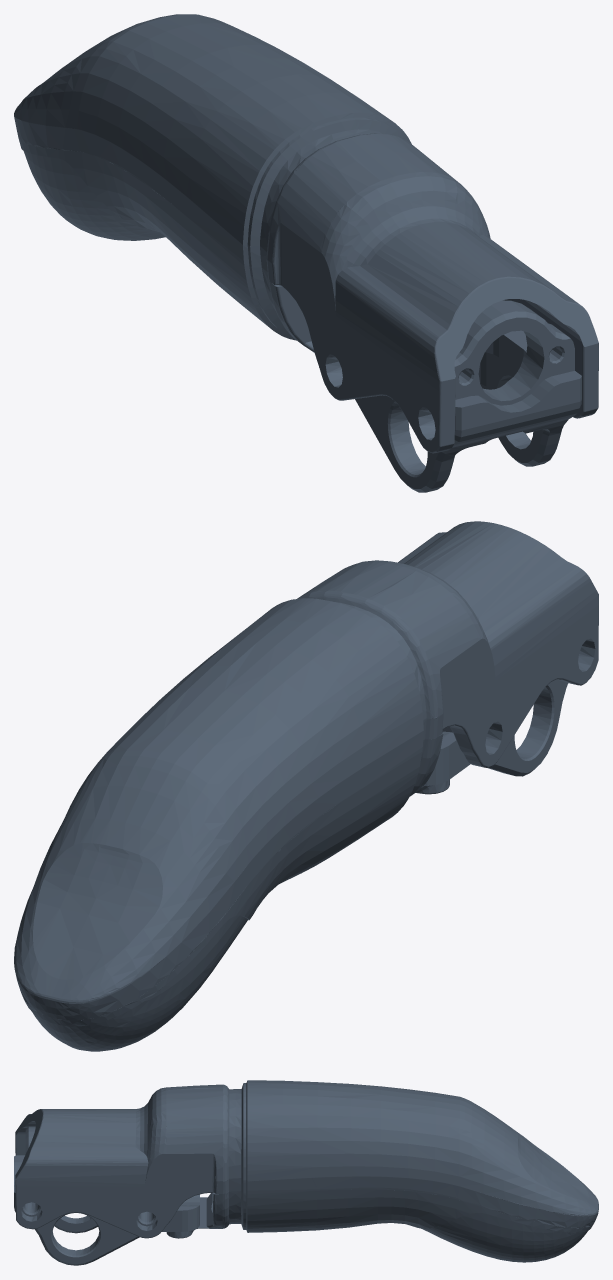
The model's file is L_thumb_dist.dae.
The picture shows the model from 3 angles, top to bottom: view 1: azimuth 30°, elevation 25°; view 2: azimuth 150°, elevation 25°; view 3: azimuth 270°, elevation 25°; orthographic projection. The views are drawn at different scales.
Visible parts, largest first — view 1: L_thumb_dist; view 2: L_thumb_dist; view 3: L_thumb_dist.
Boxes of the visible parts, <box> form: L_thumb_dist: <box>14,14,598,492</box>; L_thumb_dist: <box>14,521,598,1051</box>; L_thumb_dist: <box>14,1080,598,1265</box>.
Bounding box in the file's own units: 0.022 × 0.099 × 0.0318.
